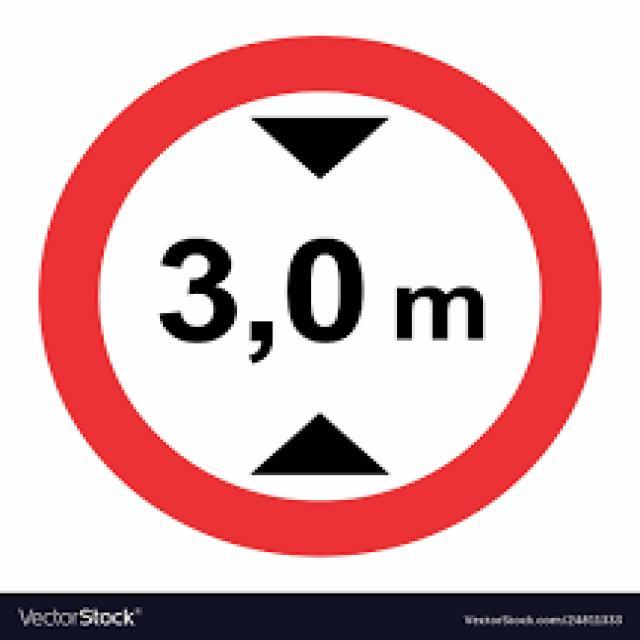height limit: (38, 35, 601, 557)
